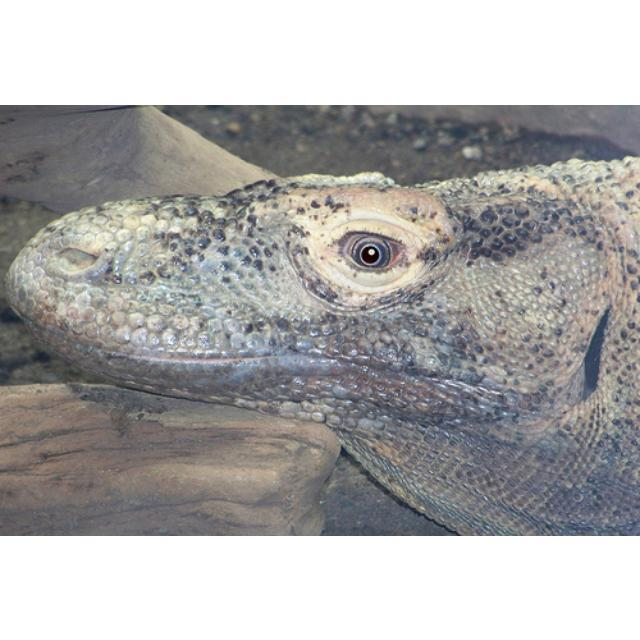KomodoDragon: (1, 153, 638, 531)
